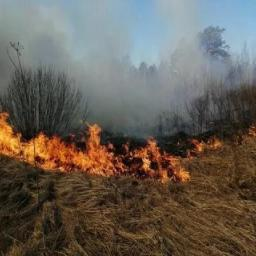Low smoke: (1, 3, 125, 127), (142, 2, 251, 118)
Small fire: (1, 103, 190, 184), (178, 119, 256, 152)
